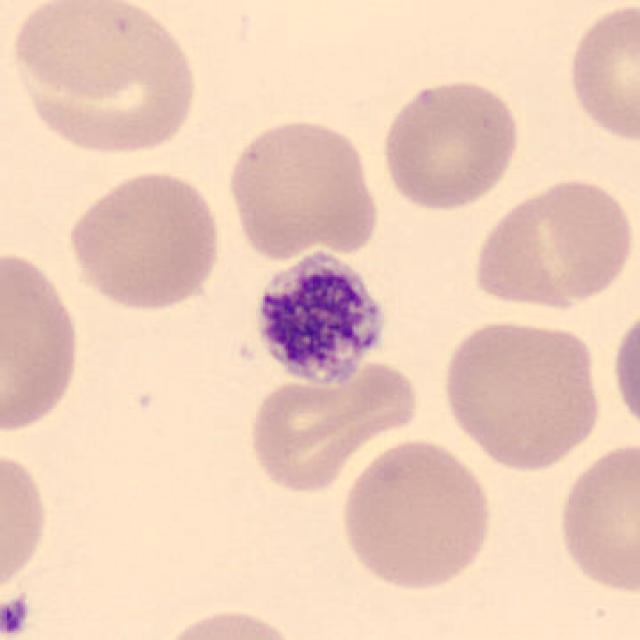Platelets: (243, 245, 394, 395), (0, 594, 32, 640)
RBC: (7, 2, 203, 157), (243, 353, 425, 499), (438, 314, 606, 472), (336, 436, 498, 592), (62, 166, 226, 314), (468, 173, 636, 314), (222, 113, 382, 261), (377, 74, 524, 213), (0, 243, 85, 440), (553, 436, 638, 600), (564, 2, 638, 146), (0, 442, 53, 601), (153, 604, 304, 640), (608, 301, 640, 441)
